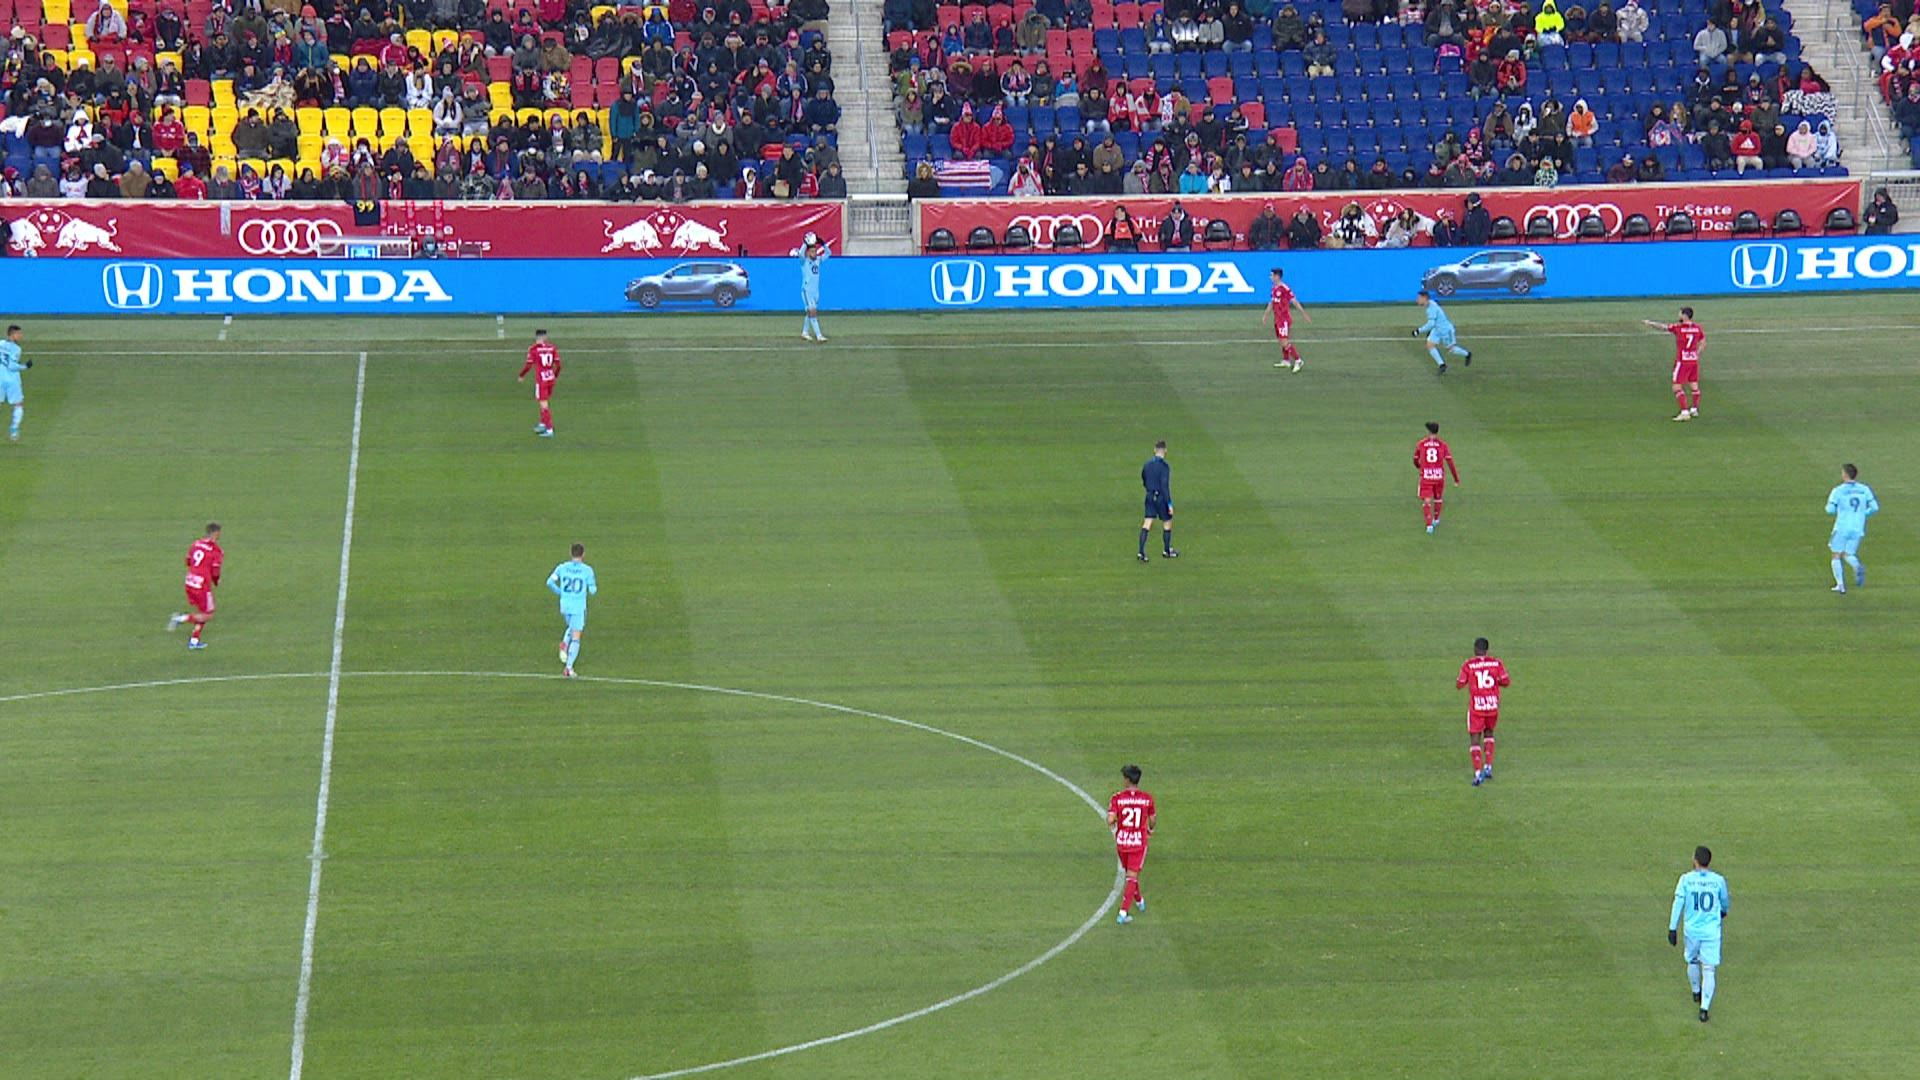football: (806, 231, 816, 245)
